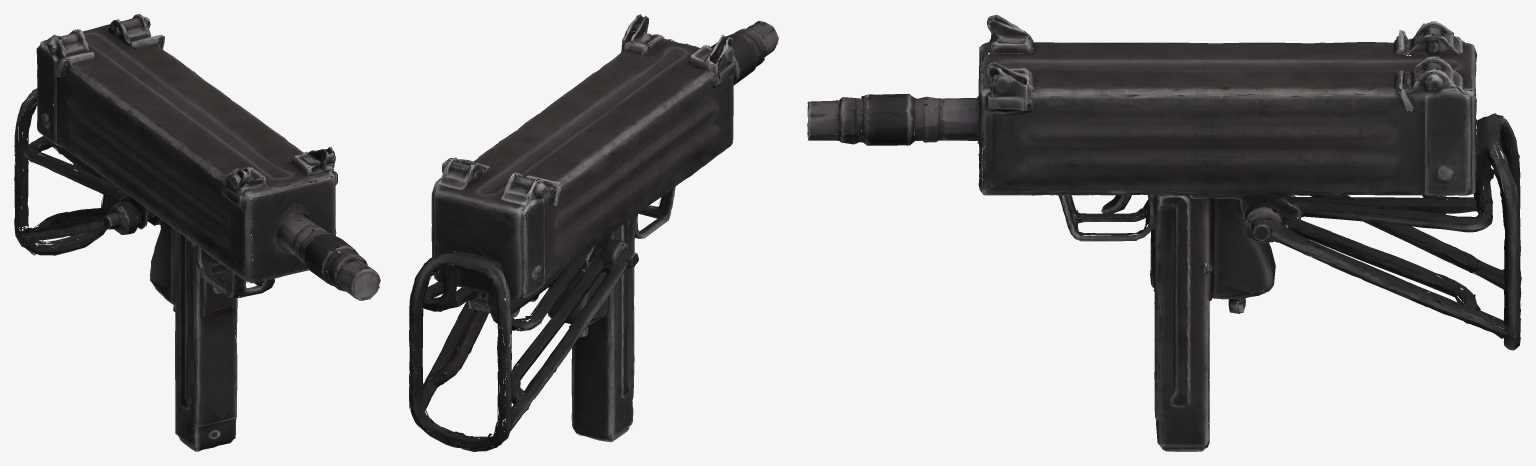
The model's file is uzi.glb.
The picture shows the model from 3 angles, left to right: view 1: azimuth 30°, elevation 25°; view 2: azimuth 150°, elevation 25°; view 3: azimuth 270°, elevation 25°; orthographic projection. The views are drawn at different scales.
Parts seen in each view (by area): view 1: uzi; view 2: uzi; view 3: uzi.
Boxes of the visible parts, x1,y1,x2,y2 form: uzi: (14,14,380,451); uzi: (409,14,778,451); uzi: (807,14,1521,451).
Size of the model in its own units: 0.151 by 0.3733 by 0.6.
1 material, 1 textured.
